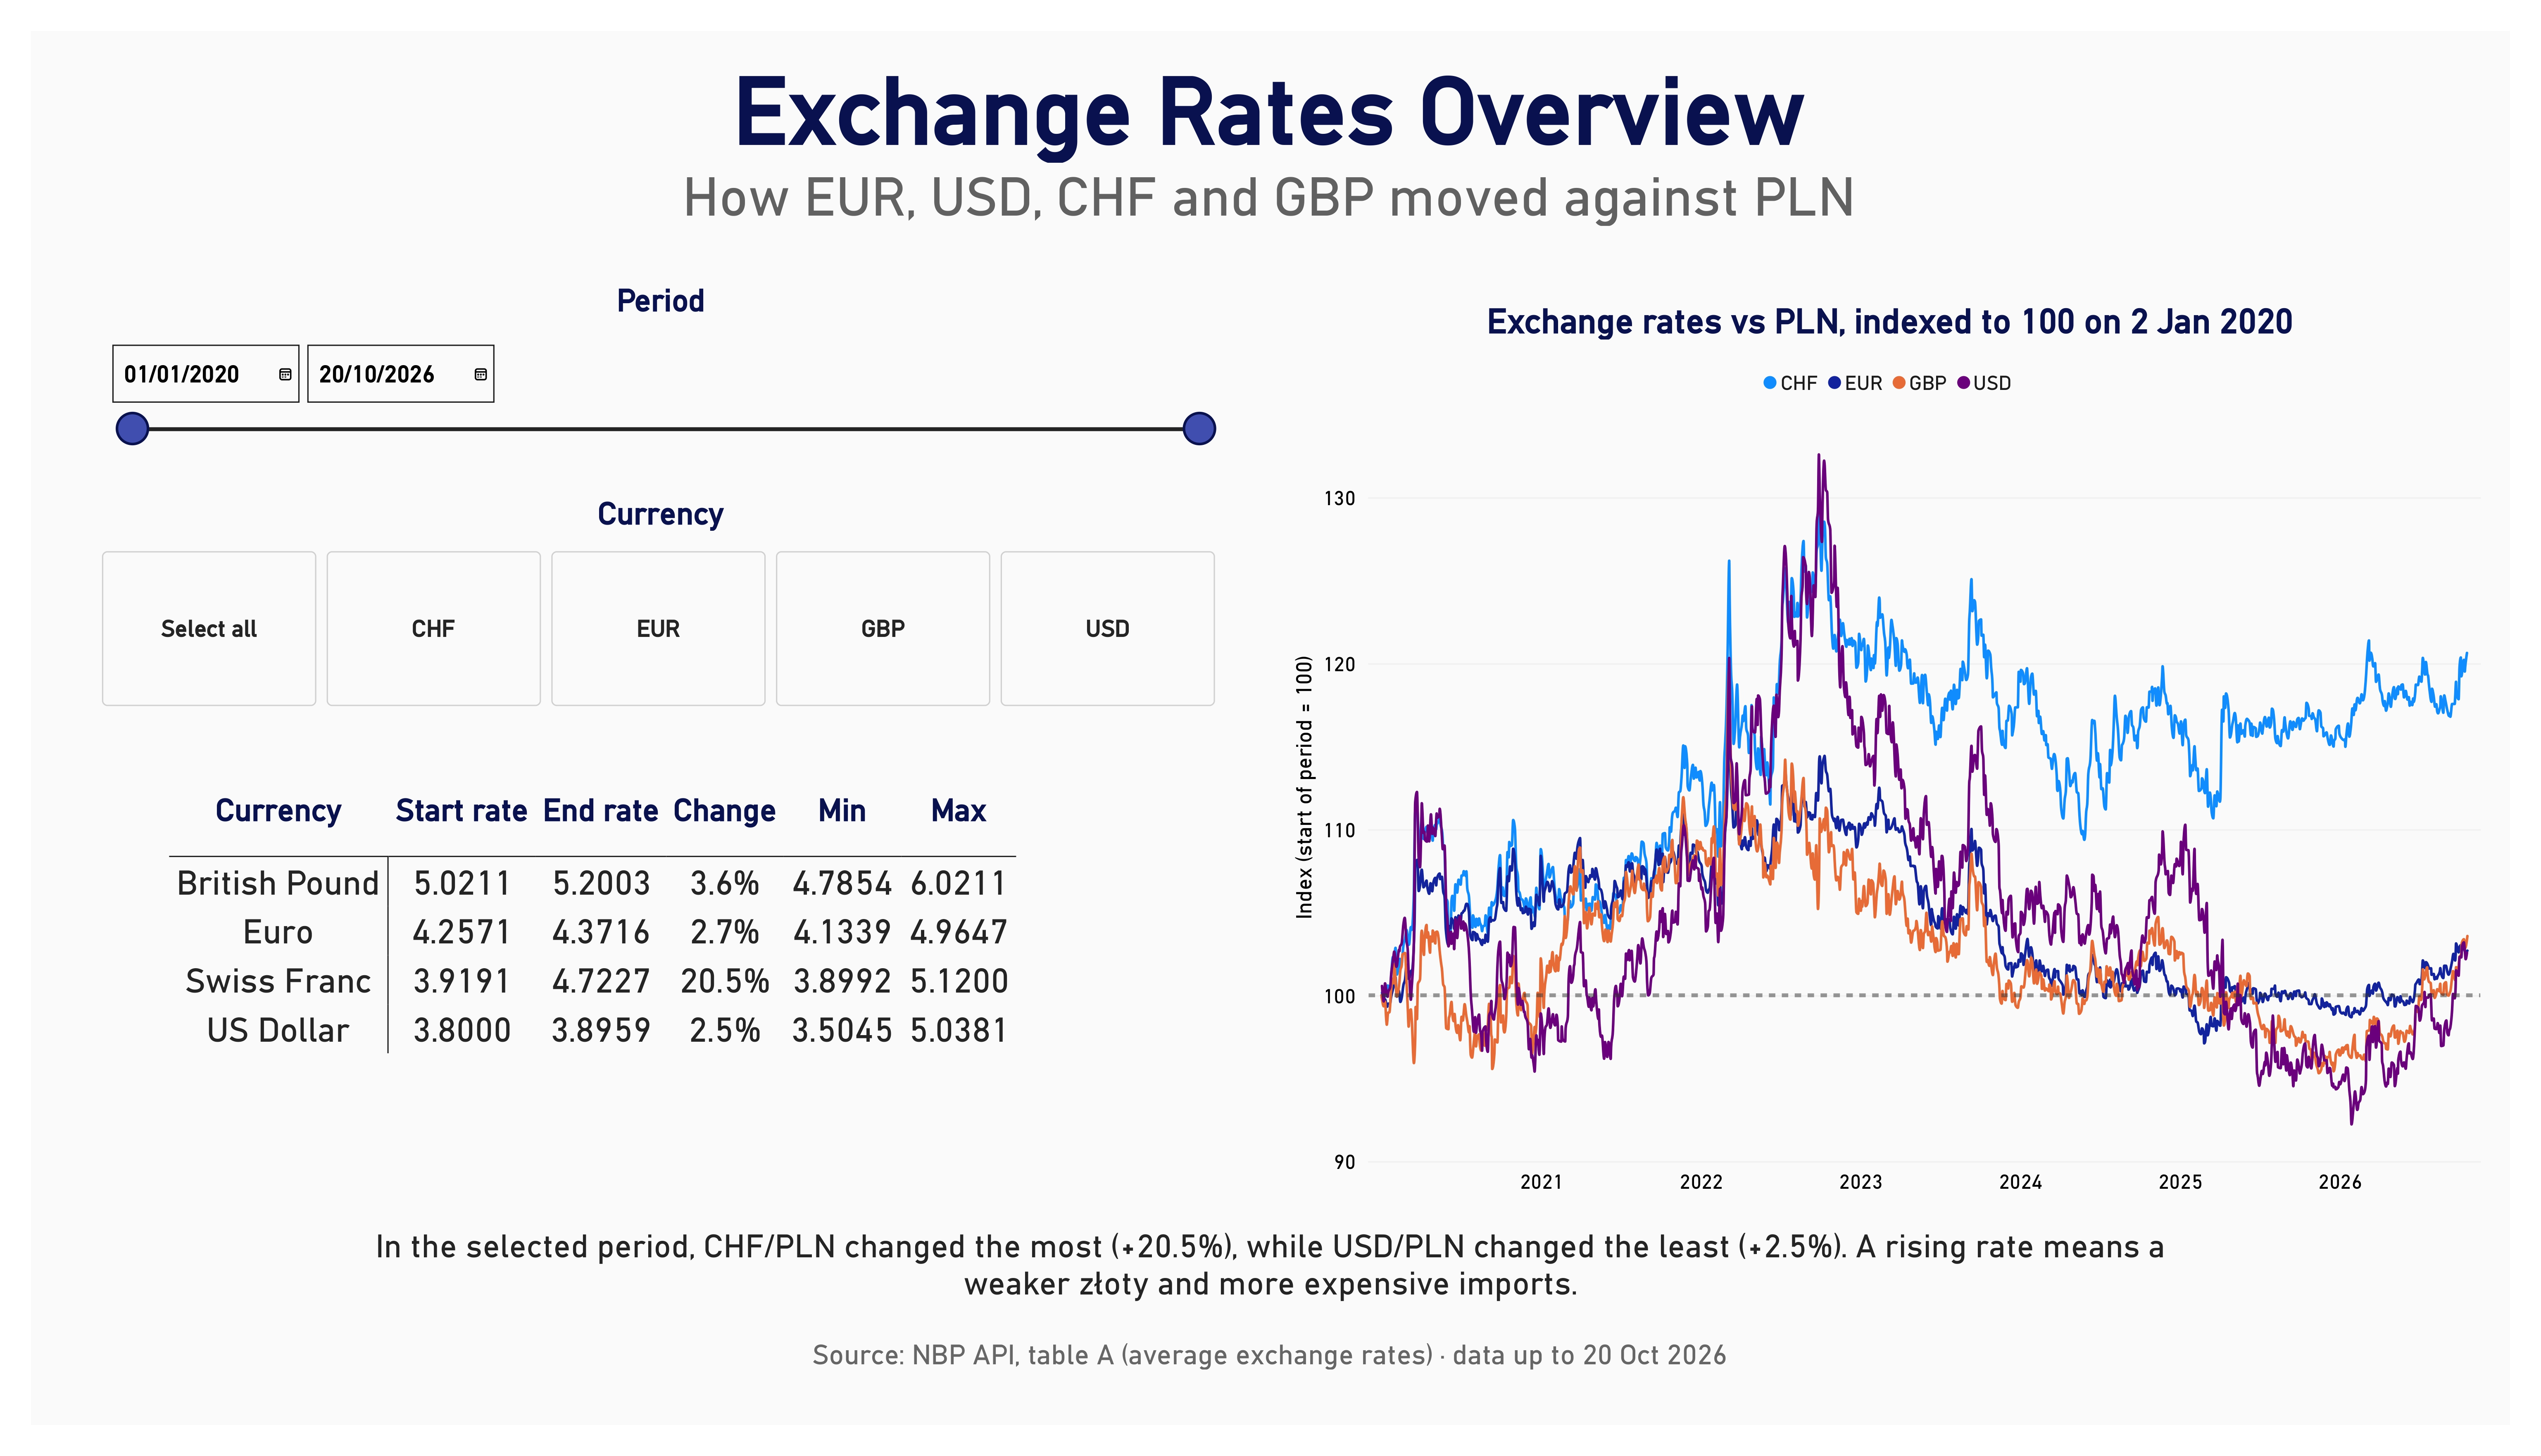

This screenshot's page, from the dashboard's own definition file:
{"tool":"powerbi","page":{"name":"Overview","canvas":[1920,1080],"ordinal":2},"visuals":[{"type":"pivotTable","fields":{"Rows":["Currencies.CurrencyName"],"Values":[".Measures.First Rate",".Measures.Latest Rate",".Measures.Change %",".Measures.Min Rate",".Measures.Max Rate"]},"box":[90.7,572,794.7,242.7],"z":0},{"type":"lineChart","fields":{"Category":["Calendar.Date"],"Series":["Currencies.Currency"],"Y":[".Measures.Rate Index"]},"box":[960,194.7,960,724],"z":1000},{"type":"cardVisual","fields":{"Data":[".Measures.Overview Summary"]},"box":[221.3,901.3,1477.3,108],"z":2000},{"type":"textbox","title":"Exchange Rates Overview","box":[305.3,20,1308,145.3],"z":3000},{"type":"slicer","title":"Period","fields":{"Values":["Calendar.Date"]},"box":[54.7,194.7,866.7,141.3],"z":4000},{"type":"advancedSlicerVisual","title":"Currency","fields":{"Values":["Currencies.Currency"]},"box":[54.7,360,866.7,162.7],"z":5000},{"type":"cardVisual","fields":{"Data":[".Measures.Source Line"]},"box":[470.7,997.3,977.3,54.7],"z":6000}]}

Visuals, with their boxes on the page's 1920x1080 design canvas (x1, y1, x2, y2). These are canvas units, not pixel positions in the 2541x1456 screenshot, which may show the page scaled, cropped or inside an application window:
pivotTable - Currencies.CurrencyName x .Measures.First Rate: (left=91, top=572, right=885, bottom=815)
lineChart - Calendar.Date x Currencies.Currency: (left=960, top=195, right=1920, bottom=919)
cardVisual - .Measures.Overview Summary: (left=221, top=901, right=1699, bottom=1009)
"Exchange Rates Overview" textbox: (left=305, top=20, right=1613, bottom=165)
"Period" slicer: (left=55, top=195, right=921, bottom=336)
"Currency" advancedSlicerVisual: (left=55, top=360, right=921, bottom=523)
cardVisual - .Measures.Source Line: (left=471, top=997, right=1448, bottom=1052)
